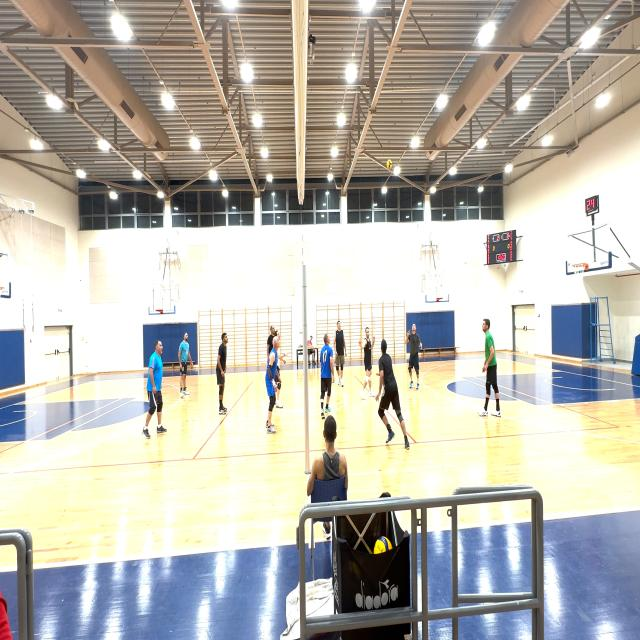volleyball: (373, 536, 392, 555), (393, 166, 401, 176), (386, 158, 392, 170)
